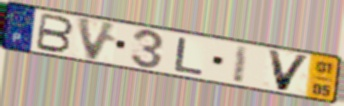3: (129, 28, 166, 71)
B: (33, 12, 76, 55)
I: (230, 43, 251, 85)
L: (172, 36, 206, 77)
V: (265, 48, 313, 93), (75, 15, 120, 63)
